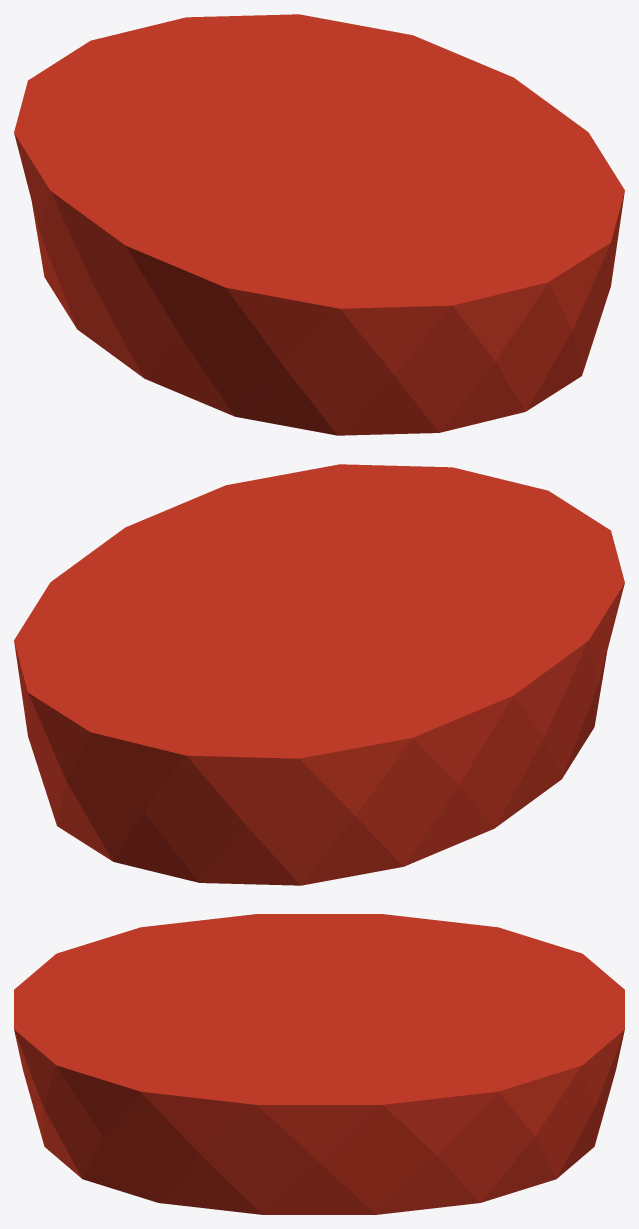
Rendered from strawberry_slice_1.glb.
The picture shows the model from 3 angles, top to bottom: view 1: azimuth 30°, elevation 25°; view 2: azimuth 150°, elevation 25°; view 3: azimuth 270°, elevation 25°; orthographic projection. The views are drawn at different scales.
Visible parts, largest first — view 1: StrawberrySlice; view 2: StrawberrySlice; view 3: StrawberrySlice.
Part boxes in pixels (bbox=[...]): StrawberrySlice: bbox=[14, 14, 624, 435]; StrawberrySlice: bbox=[14, 464, 624, 885]; StrawberrySlice: bbox=[14, 914, 624, 1214].
Size of the model in its own units: 1.78 by 0.5189 by 2.4.
